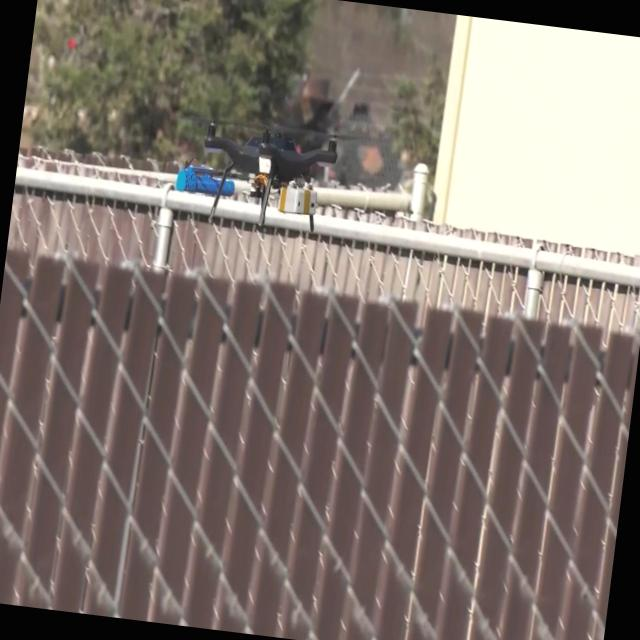drone: (172, 105, 373, 248)
